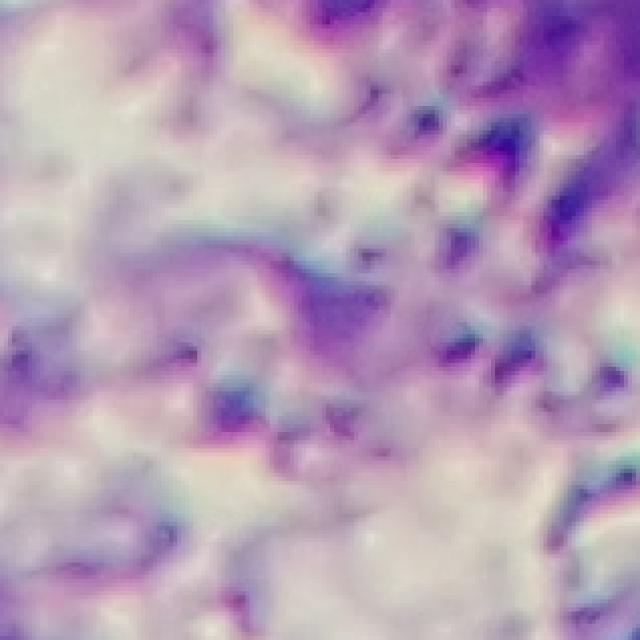non-sperm: (176, 236, 399, 440)
